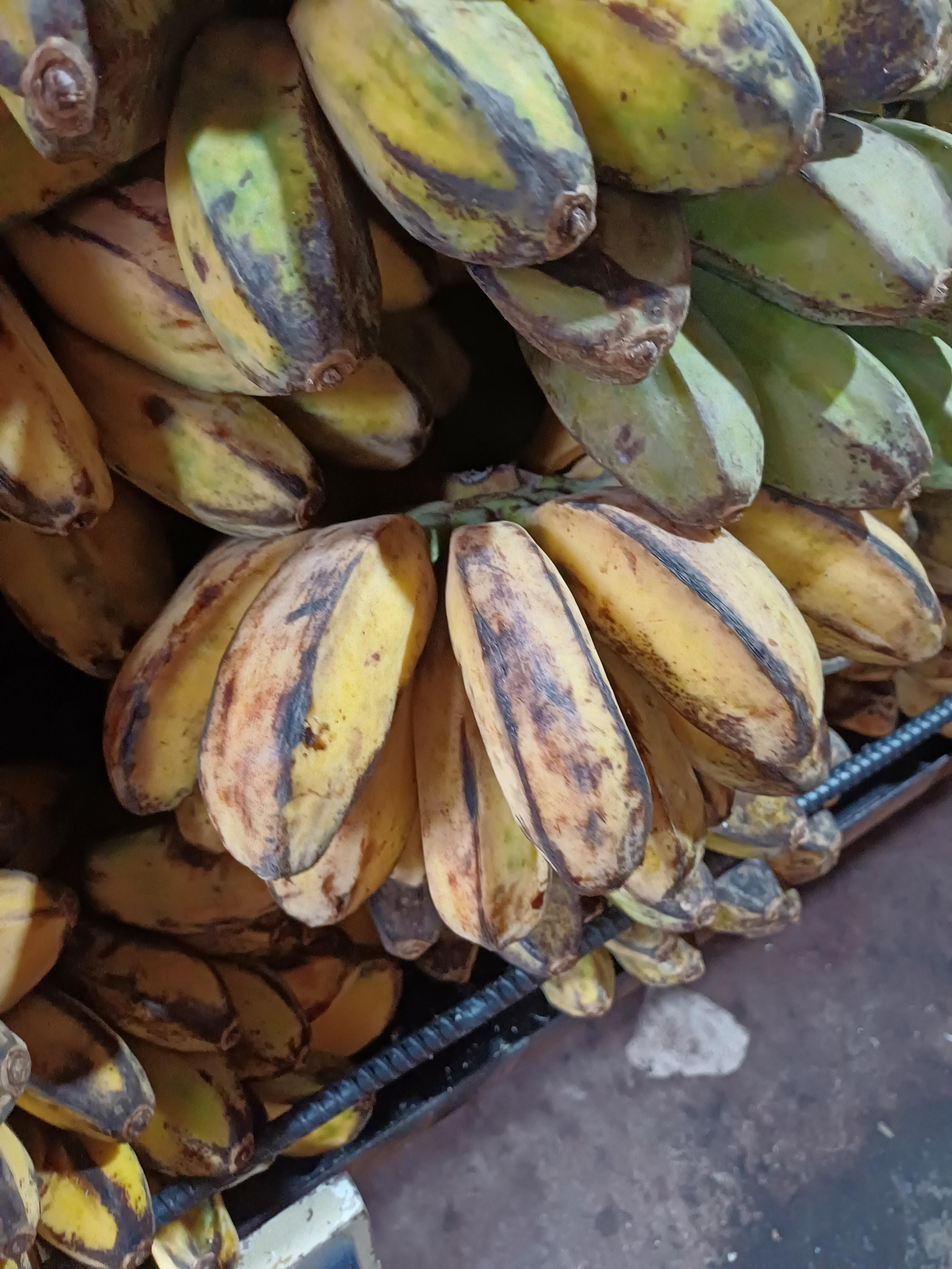ripe: (104, 492, 945, 946), (0, 177, 429, 679), (7, 919, 310, 1269), (84, 819, 402, 1059)
underripe: (165, 0, 952, 395), (470, 115, 952, 526)
